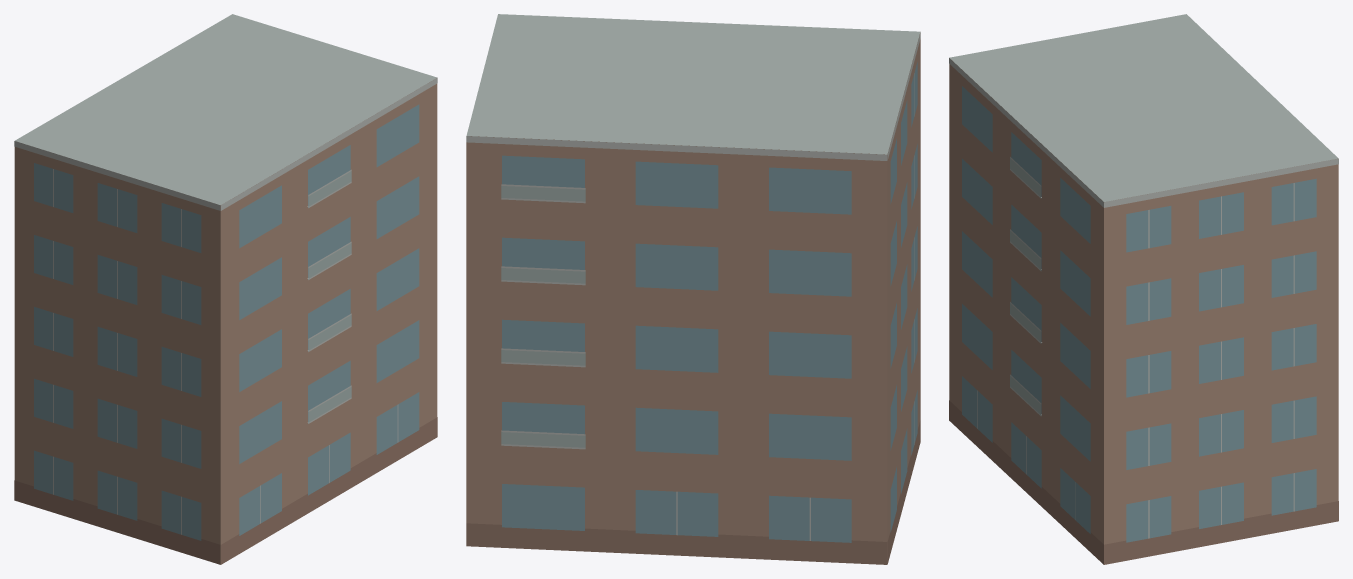
Rendered from survey-upis-32732798.glb.
3 renders of one model, left to right at view 1: azimuth 30°, elevation 25°; view 2: azimuth 150°, elevation 25°; view 3: azimuth 270°, elevation 25°, orthographic. The views are drawn at different scales.
Parts seen in each view (by area): view 1: survey-upis-32732798.tmp; view 2: survey-upis-32732798.tmp; view 3: survey-upis-32732798.tmp.
Part boxes in pixels (<box>): survey-upis-32732798.tmp: <box>14,14,437,564</box>; survey-upis-32732798.tmp: <box>466,14,920,564</box>; survey-upis-32732798.tmp: <box>949,14,1338,564</box>.
Size of the model in its own units: 16.97 by 15.25 by 14.85.
